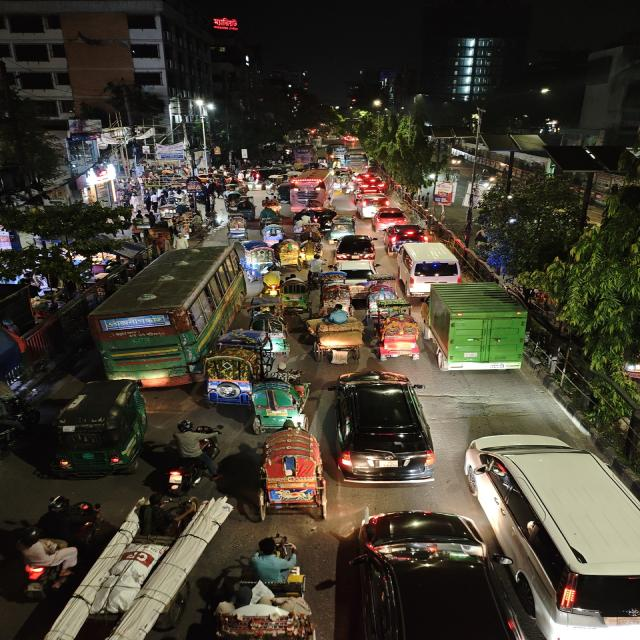bus: (88, 243, 244, 383), (292, 169, 331, 197)
car: (467, 429, 640, 639), (350, 505, 532, 640), (324, 368, 439, 484), (395, 241, 462, 293), (331, 234, 379, 272), (384, 223, 433, 243), (352, 194, 391, 216), (372, 208, 410, 228)
cng: (50, 377, 152, 478)
motorcycle: (6, 526, 82, 600), (163, 420, 218, 494)
rickshaw: (208, 532, 326, 640), (254, 424, 328, 522), (247, 372, 310, 432), (306, 307, 366, 365), (201, 354, 257, 405), (374, 311, 422, 363), (241, 240, 277, 278), (278, 275, 312, 315), (316, 268, 351, 302), (223, 193, 256, 218), (223, 213, 250, 240), (328, 216, 357, 240), (260, 221, 286, 246), (235, 200, 258, 220), (258, 202, 282, 220), (222, 191, 243, 211), (274, 183, 294, 203)
truck: (422, 284, 529, 378)
